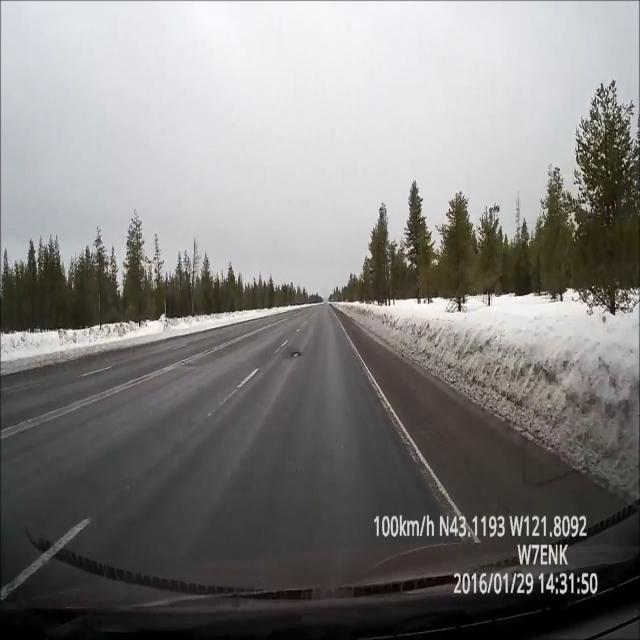pothole: (279, 337, 309, 367)
